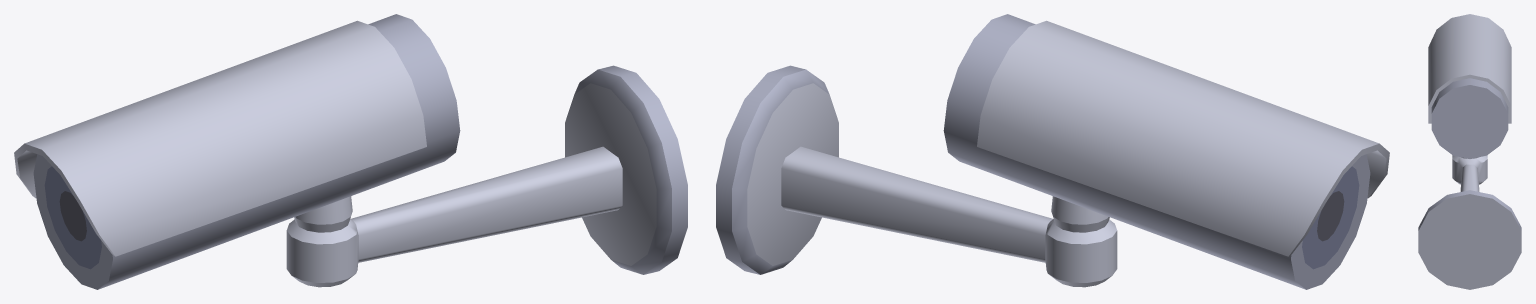
Rendered from c_cam.fbx.
3 views of the same model, side by side, from view 1: azimuth 30°, elevation 25°; view 2: azimuth 150°, elevation 25°; view 3: azimuth 270°, elevation 25° (orthographic). The views are drawn at different scales.
Parts seen in each view (by area): view 1: c_cam; view 2: c_cam; view 3: c_cam.
Part boxes in pixels (x1,y1,x2,y2): c_cam: [14, 14, 687, 289]; c_cam: [716, 14, 1389, 289]; c_cam: [1418, 14, 1521, 289].
Size of the model in its own units: 13.69 by 6.62 by 4.1.
